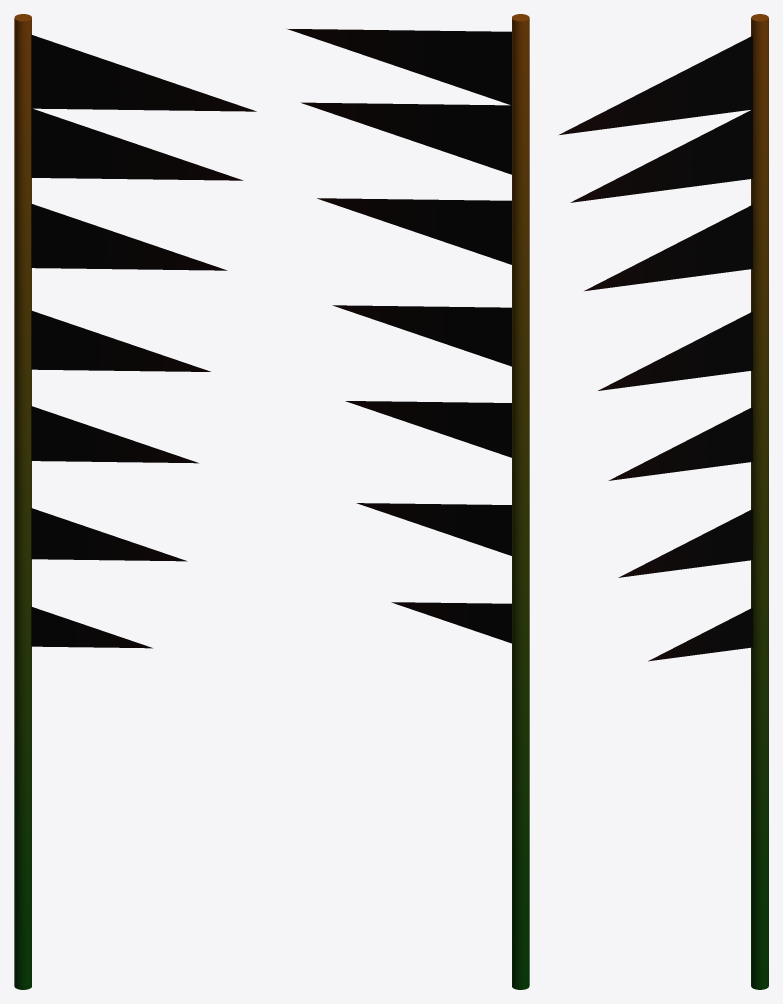
File: flag_0.fbx
3 renders of one model, left to right at view 1: azimuth 30°, elevation 25°; view 2: azimuth 210°, elevation 25°; view 3: azimuth 270°, elevation 25°, orthographic.
Visible parts, largest first — view 1: transform2; view 2: transform2; view 3: transform2.
Part boxes in pixels (x1,y1,x2,y2): transform2: (14,14,256,989); transform2: (286,14,529,989); transform2: (558,14,768,989).
Size of the model in its own units: 91.39 by 600 by 118.
